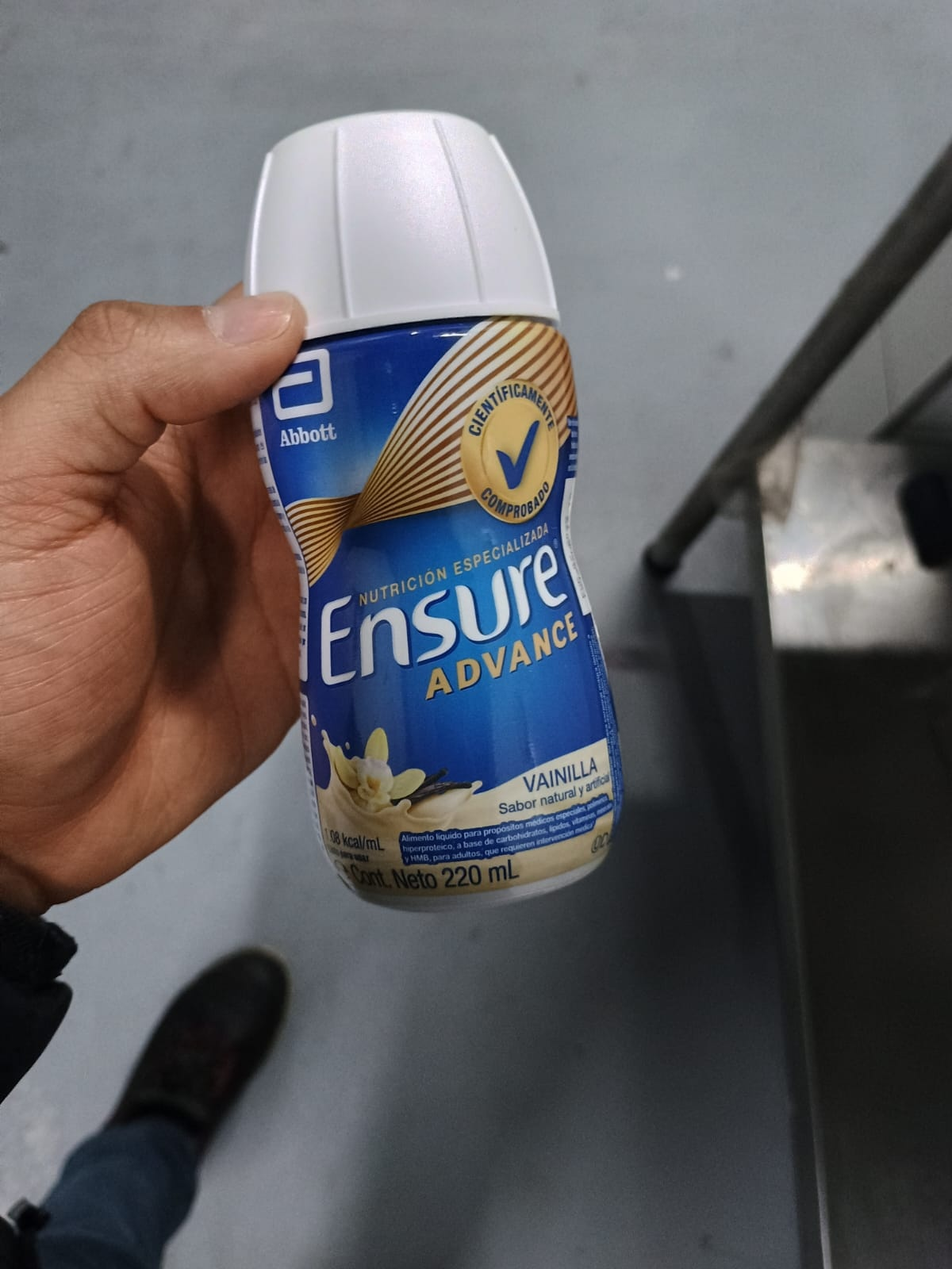Plastico: (239, 112, 621, 915)
